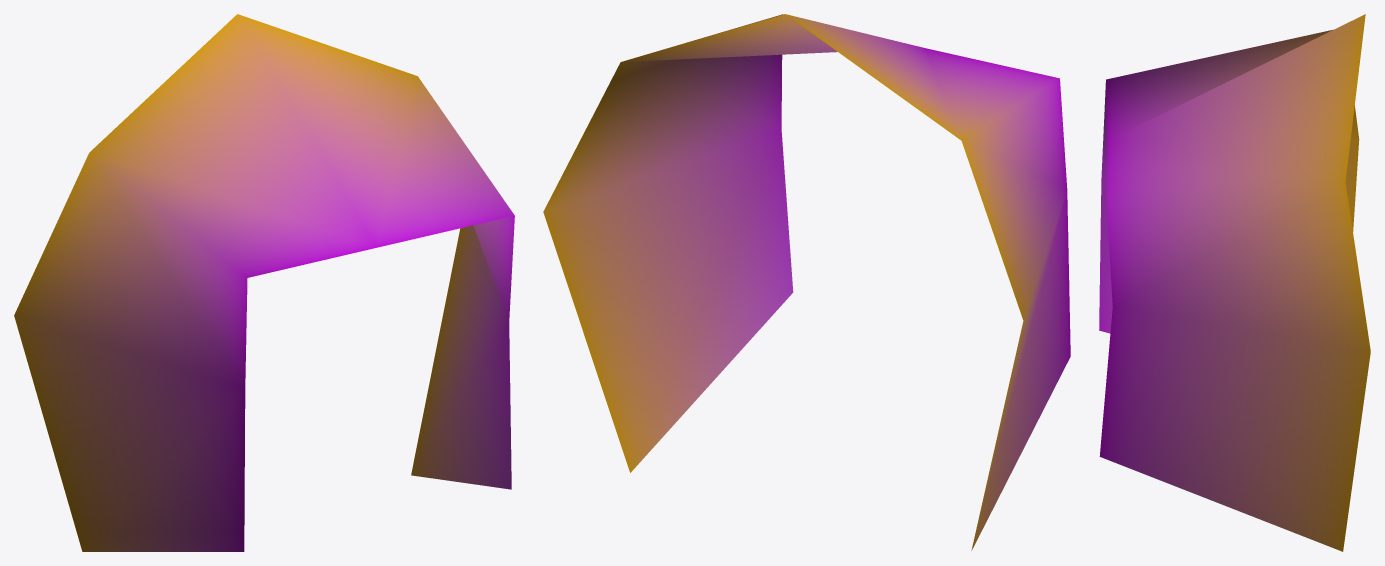
Rendered from pressdpadu.glb.
3 renders of one model, left to right at view 1: azimuth 30°, elevation 25°; view 2: azimuth 150°, elevation 25°; view 3: azimuth 270°, elevation 25°, orthographic. The views are drawn at different scales.
Visible parts, largest first — view 1: PressDUp; view 2: PressDUp; view 3: PressDUp.
Part boxes in pixels (box(x1,y1,x2,y2)): PressDUp: box(14, 14, 514, 551); PressDUp: box(543, 14, 1070, 550); PressDUp: box(1099, 14, 1370, 551).
Size of the model in its own units: 0.2025 by 0.208 by 0.1105.
